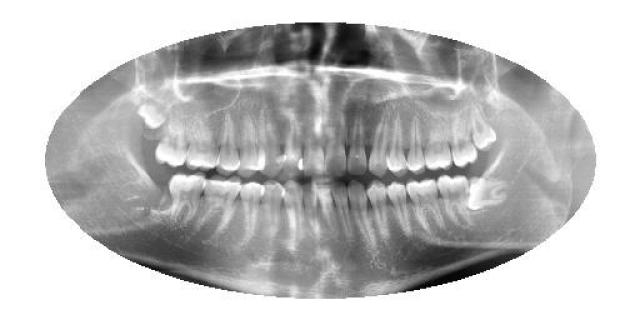Restorations: (465, 175, 507, 211)
